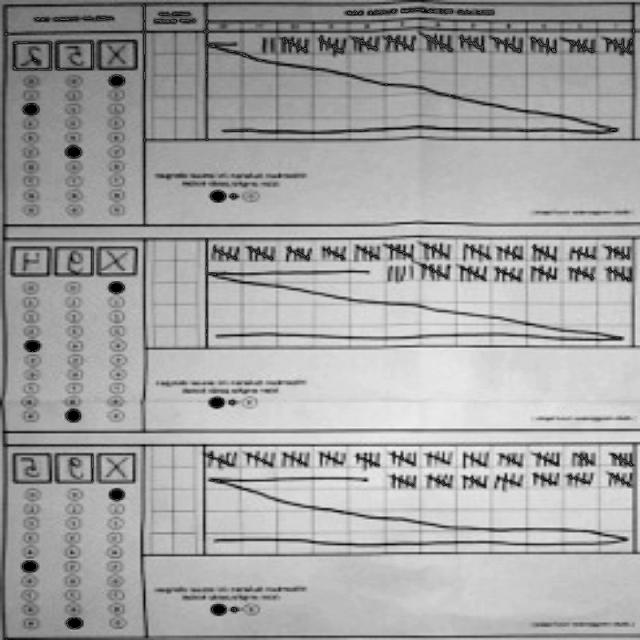Suara: (10, 26, 136, 73), (7, 448, 142, 487), (9, 243, 144, 278)
